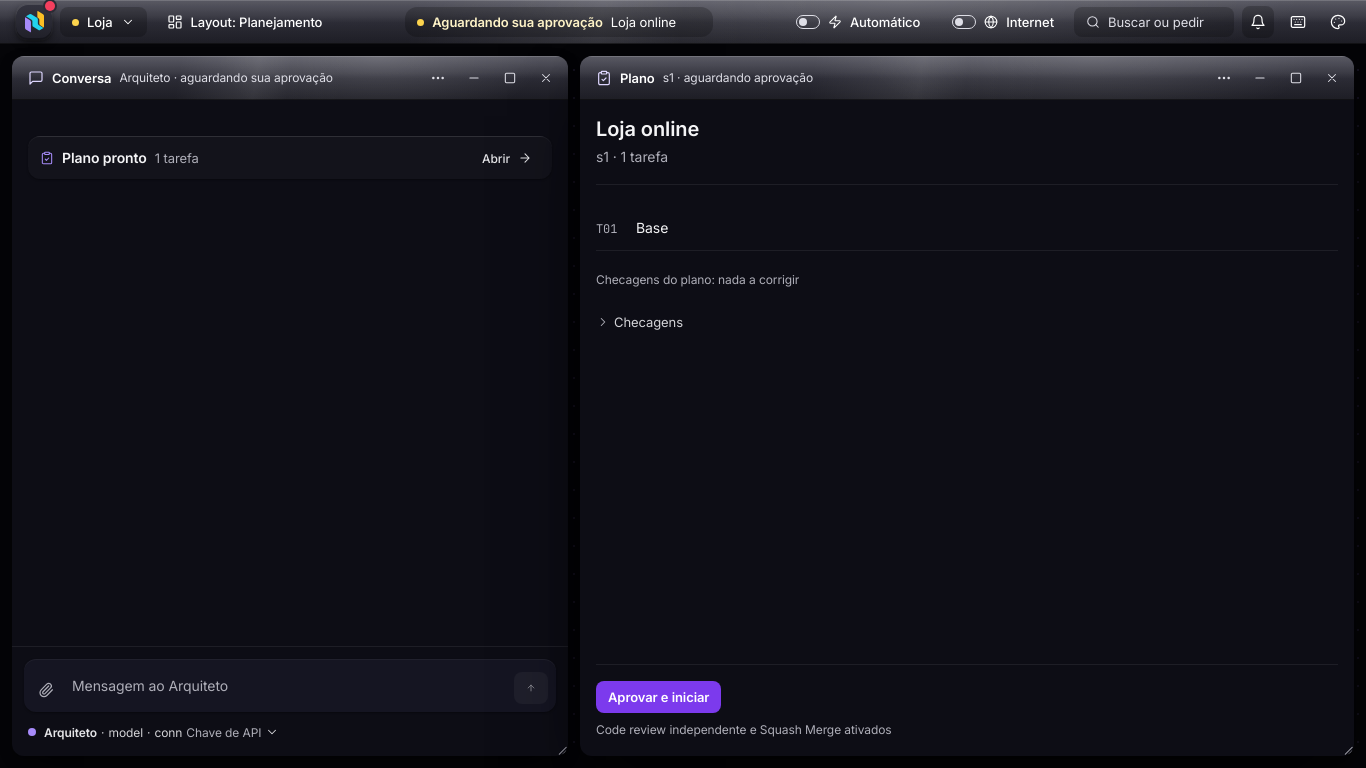
it: 6. 412 com ids parametrizados › Plano: o 412 com connection_key:c1 mostra o rótulo do /api/readiness relido e 'Configurar' em Conexões
Click the button "Aprovar e iniciar" at (659, 697), box [596,681,721,713]
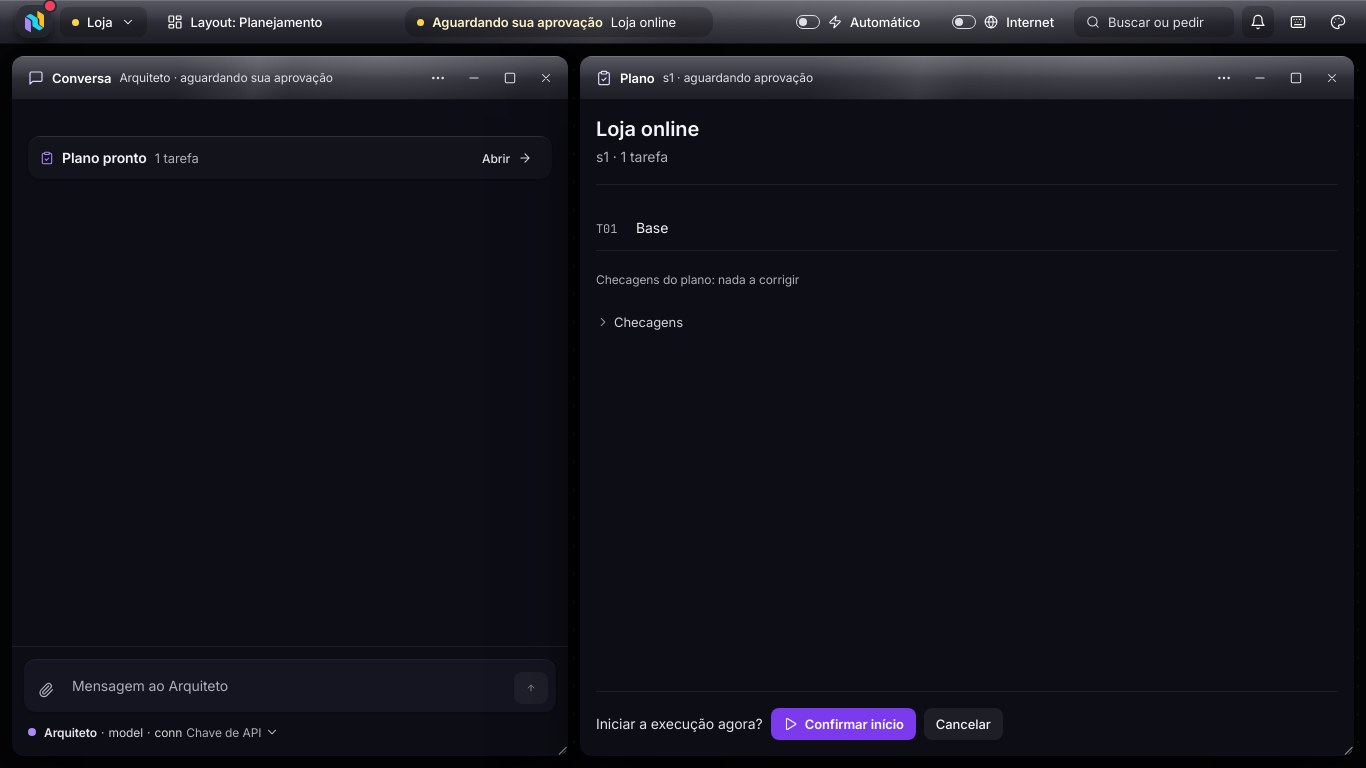
Click the button "Confirmar início" at (843, 724), box [771,708,916,740]
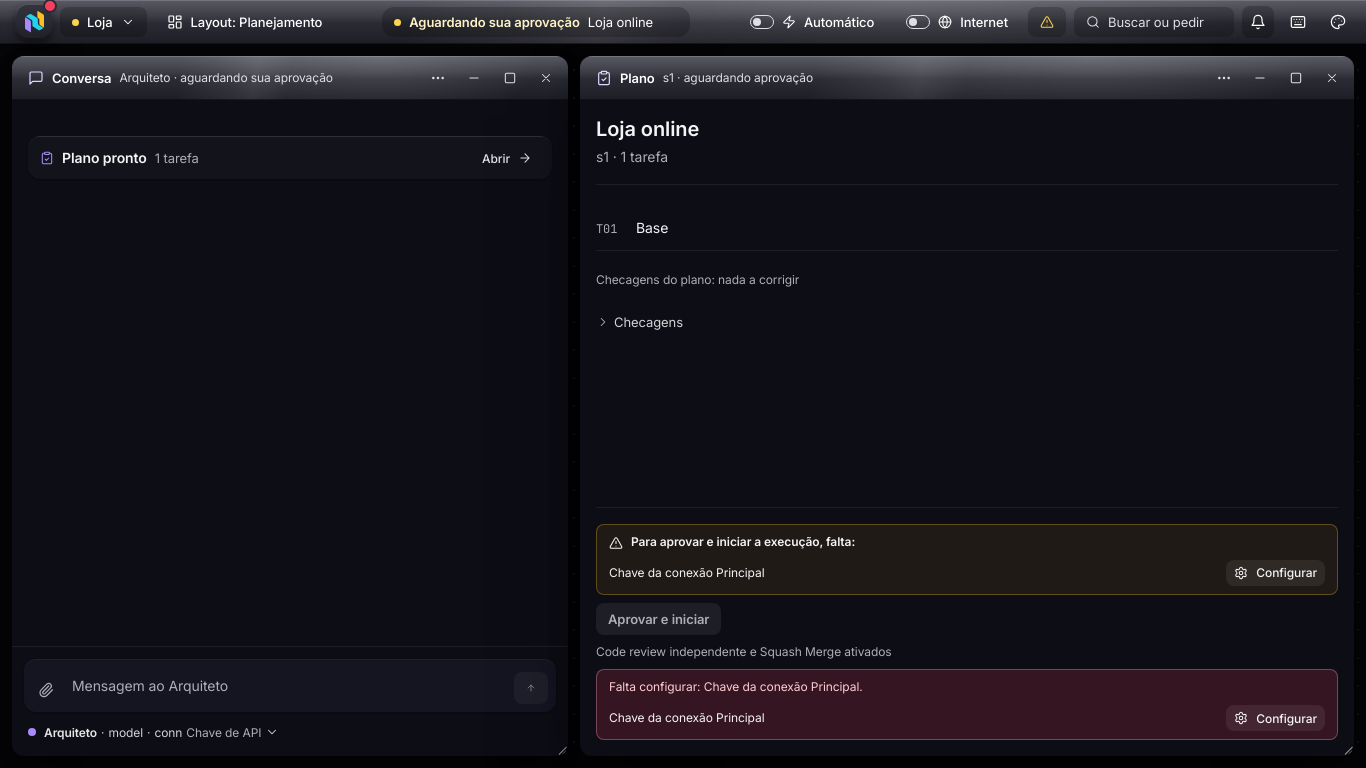
Expected: the 2nd message shows "Chave da conexão Principal", [609,710,764,725]
